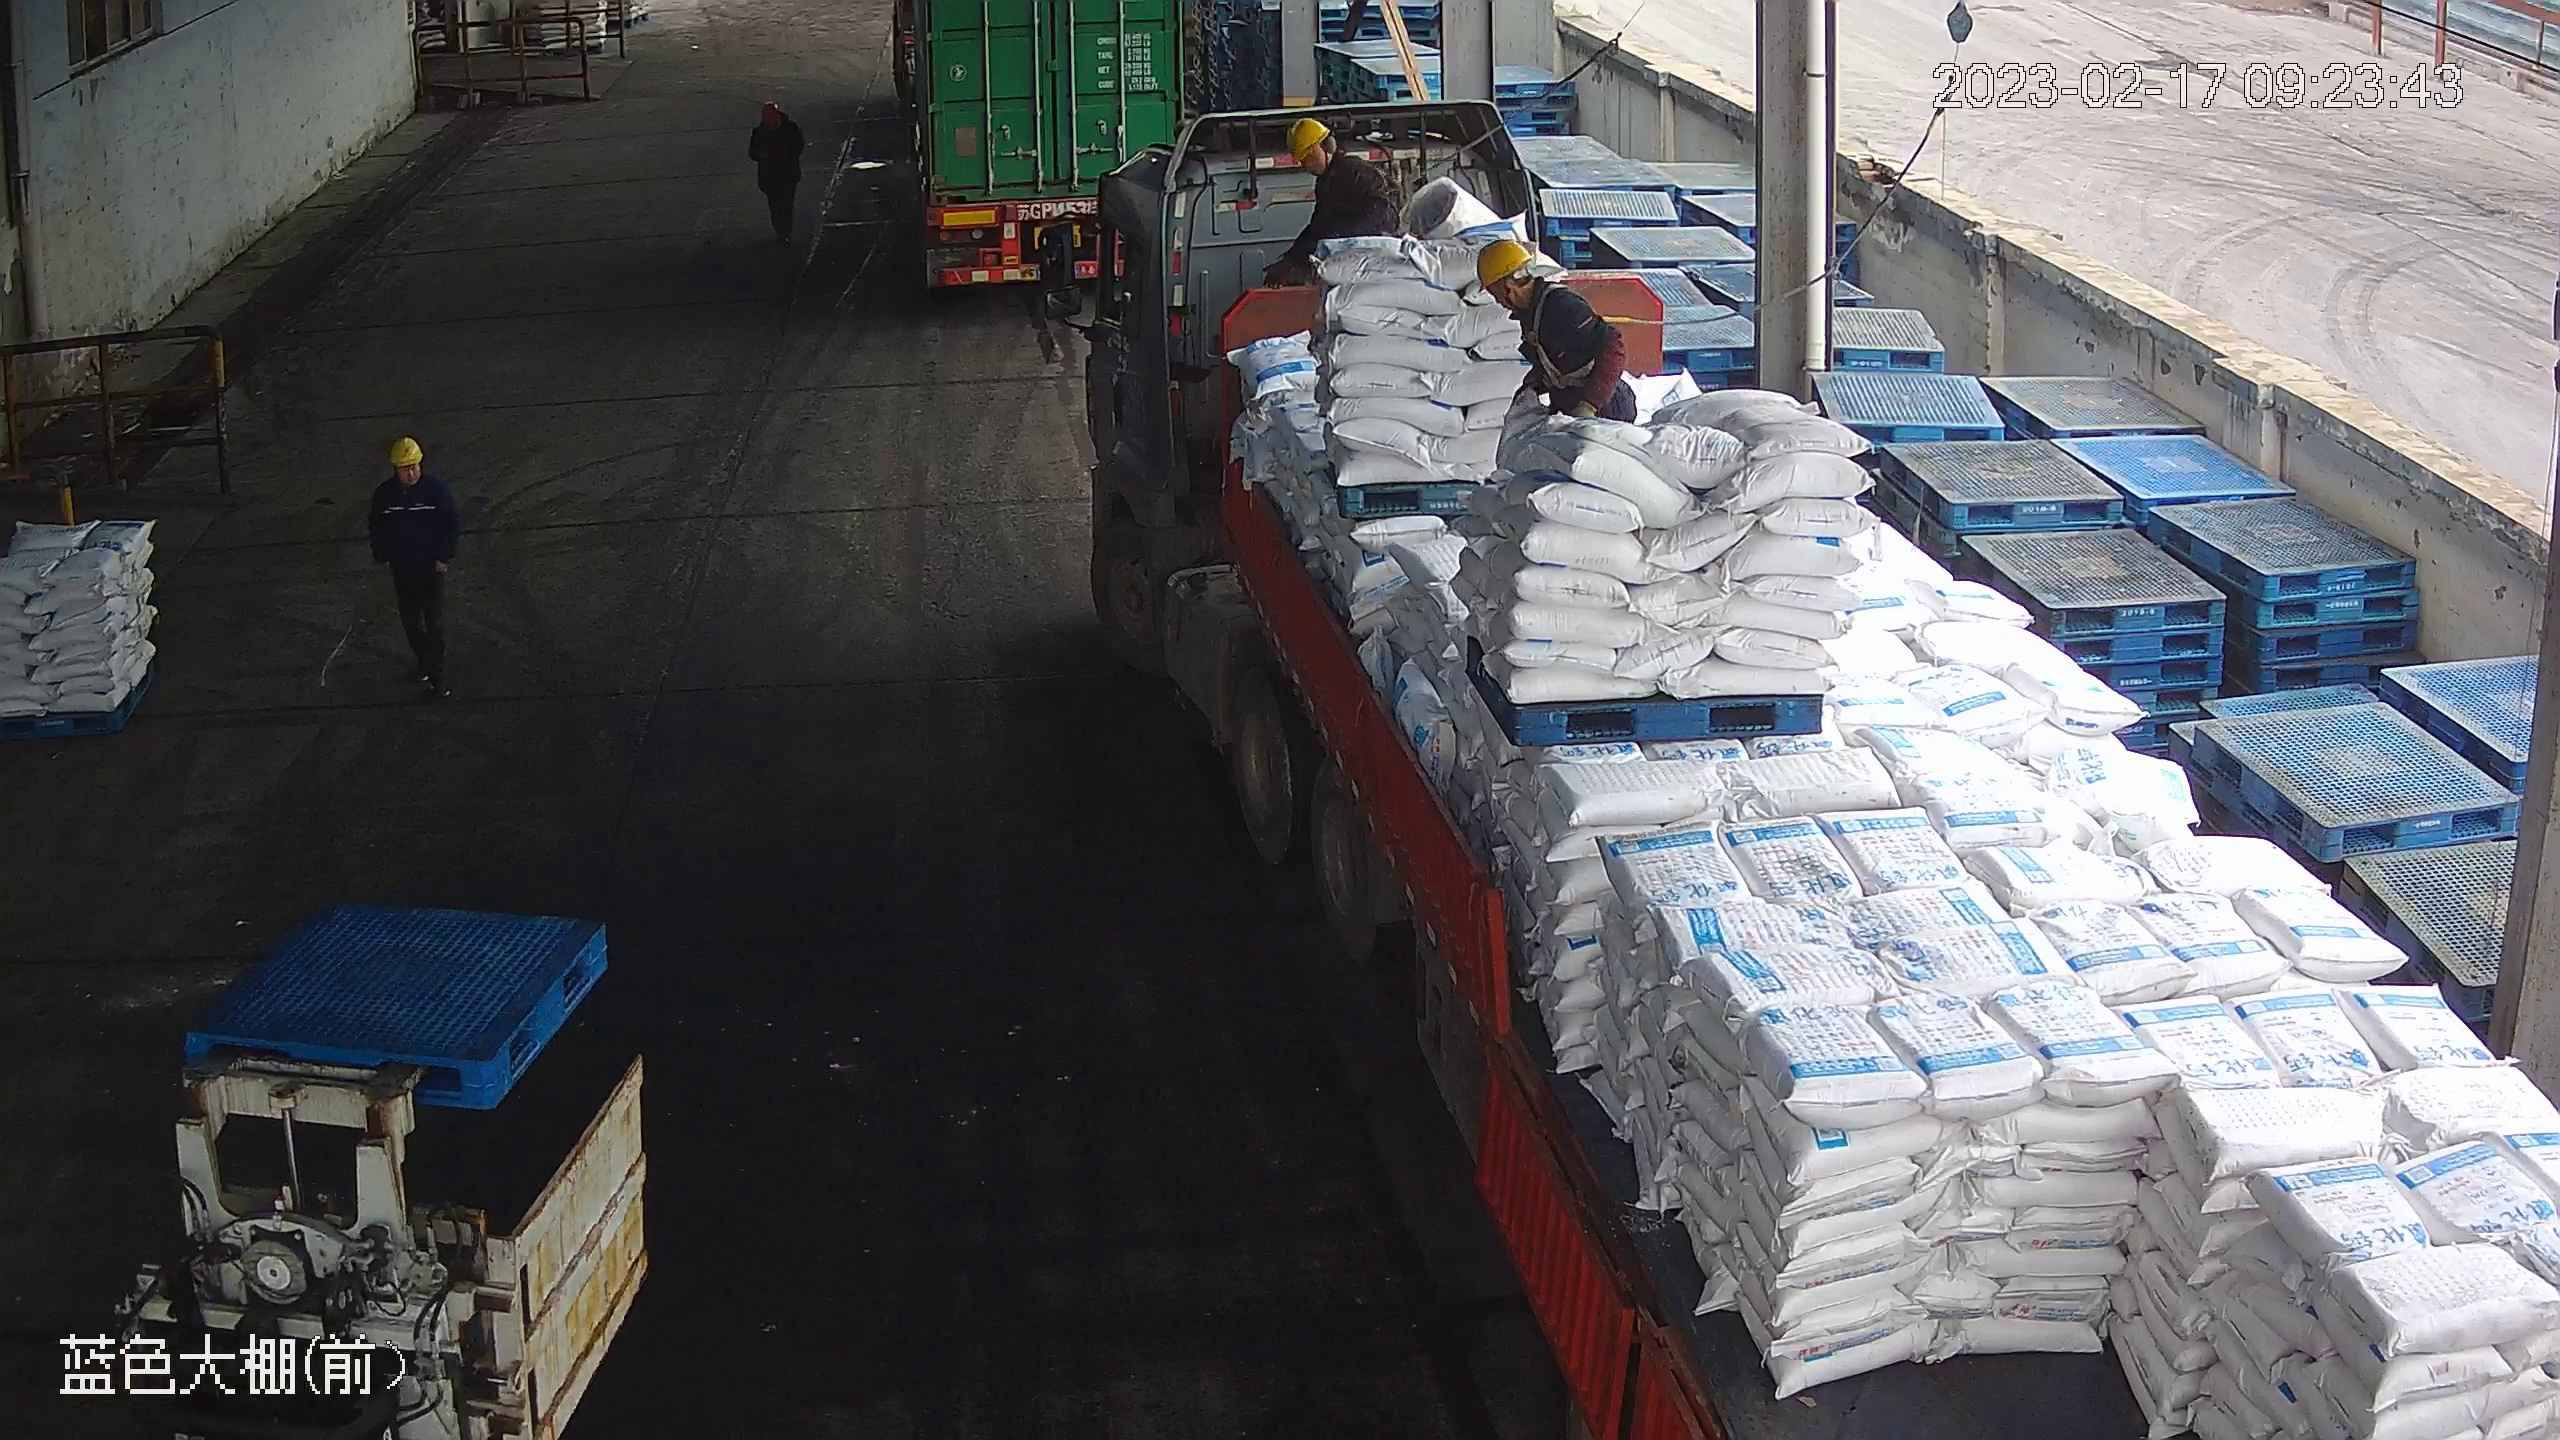belt: (1511, 282, 1607, 370), (1335, 143, 1396, 180)
head: (1473, 237, 1585, 337), (367, 434, 455, 514), (1289, 117, 1375, 196), (751, 93, 801, 140)
helmet: (1474, 238, 1533, 288), (1286, 116, 1331, 158), (388, 435, 423, 464), (757, 93, 783, 112)
people: (1472, 237, 1636, 438), (368, 434, 461, 701), (1286, 114, 1401, 256), (747, 93, 808, 246)
truck: (1035, 95, 2555, 1440), (895, 1, 1180, 289)
